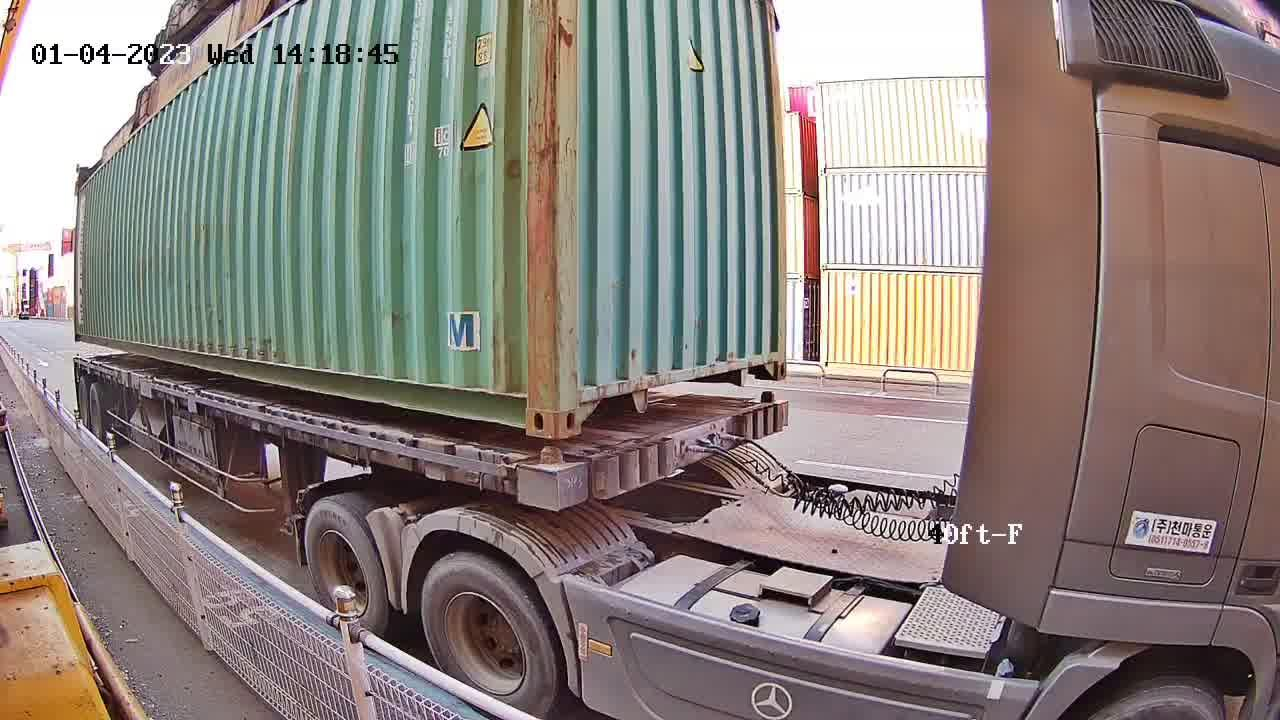Chassis: (524, 400, 784, 510)
Cone: (526, 445, 569, 510), (757, 389, 777, 406)
Hole_L: (557, 373, 608, 438)
Hole_R: (500, 375, 557, 439), (759, 338, 786, 382)
Tire: (419, 558, 555, 719), (304, 502, 388, 639)
